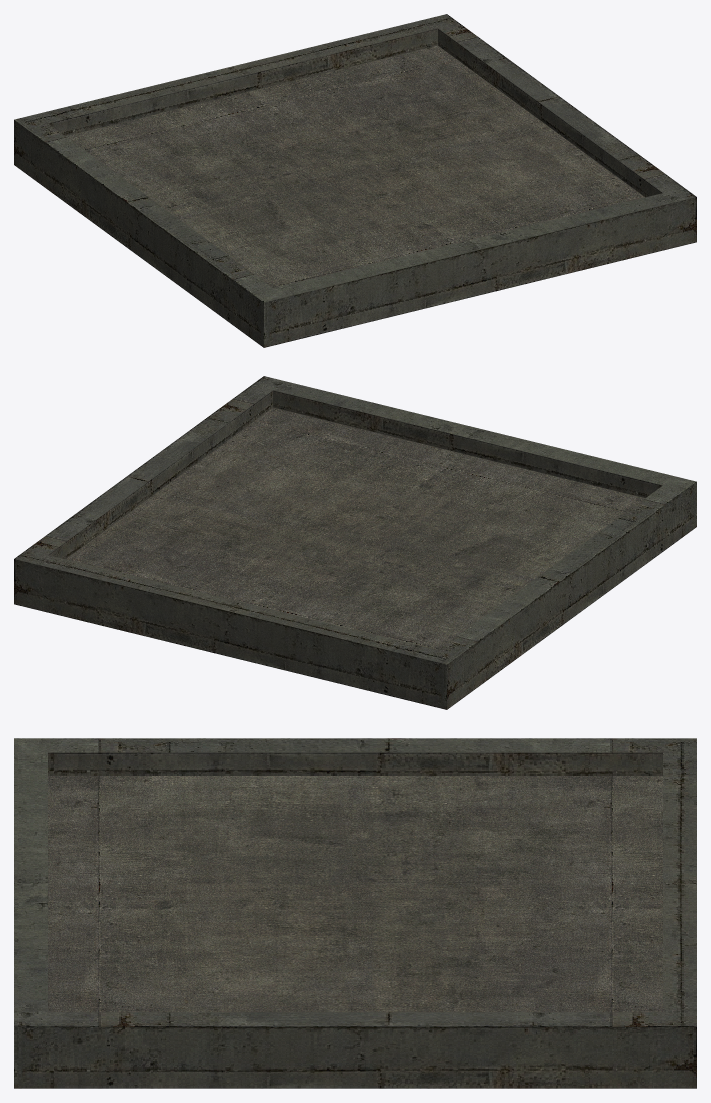
File: floor_ceiling_hr_6.glb
3 views of the same model, one above another, from view 1: azimuth 30°, elevation 25°; view 2: azimuth 150°, elevation 25°; view 3: azimuth 270°, elevation 25° (orthographic). The views are drawn at different scales.
Visible parts, largest first — view 1: floor_ceiling_hr_6; view 2: floor_ceiling_hr_6; view 3: floor_ceiling_hr_6.
Boxes of the visible parts, box(x1,y1,x2,y2) form: floor_ceiling_hr_6: box(14, 14, 696, 347); floor_ceiling_hr_6: box(14, 376, 696, 709); floor_ceiling_hr_6: box(14, 738, 696, 1088).
Size of the model in its own units: 4 by 0.4 by 4.
Materials: 2 (2 with a texture image).
